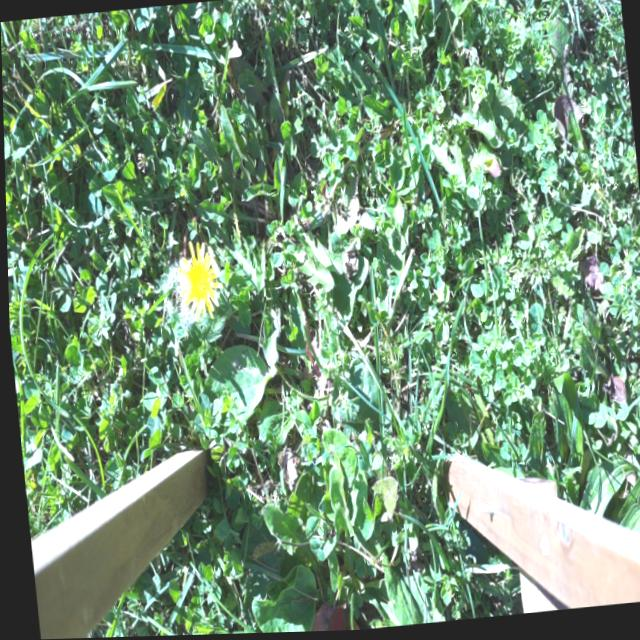base: (189, 202, 210, 231)
flower: (173, 242, 222, 323)
